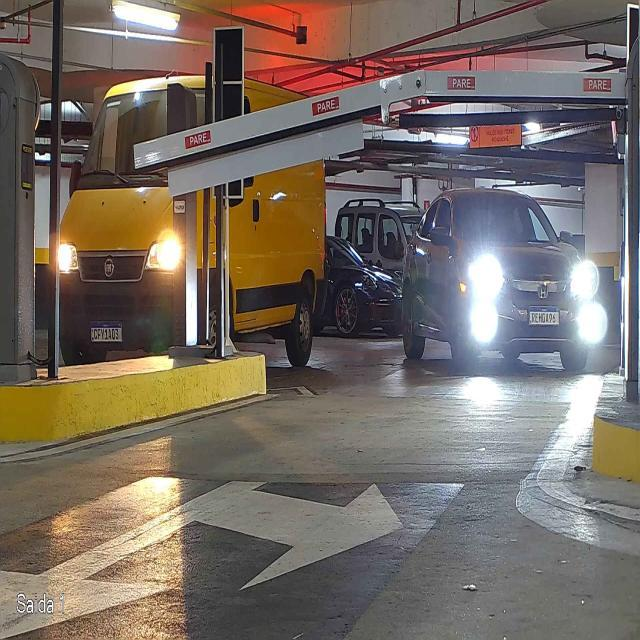mercosul_plate: (527, 304, 561, 327), (90, 321, 122, 343)
